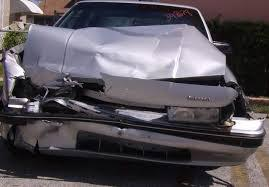bonnet-dent: (29, 20, 223, 80)
front-bumper-dent: (41, 94, 208, 158)
